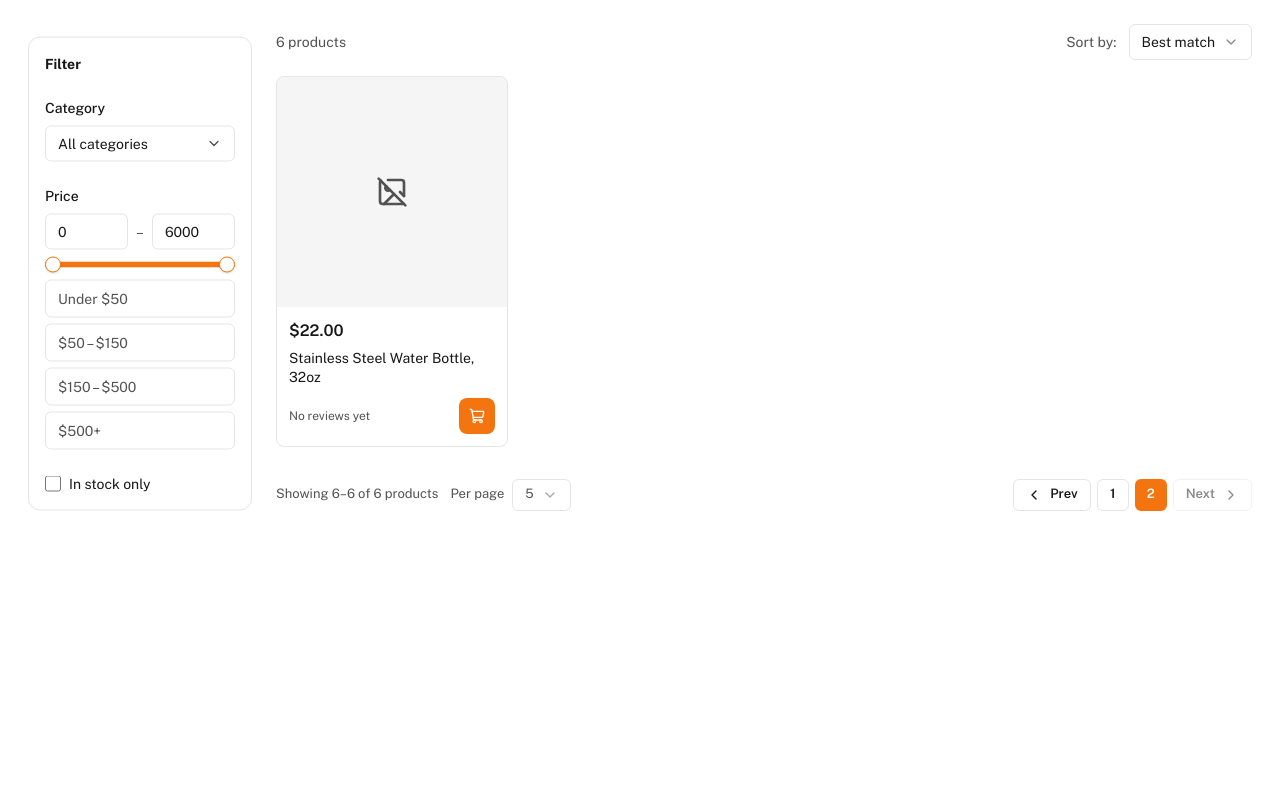
Test: SearchResults › resizes the request and goes back to the first page when Per page changes
The image size is (1280, 785).
Expected: the link "Stainless Steel Water Bottle, 32oz" is shown, [289,349,495,388]
Click the dropdown named "Rows per page".
click(541, 494)  # box [512,478,571,510]
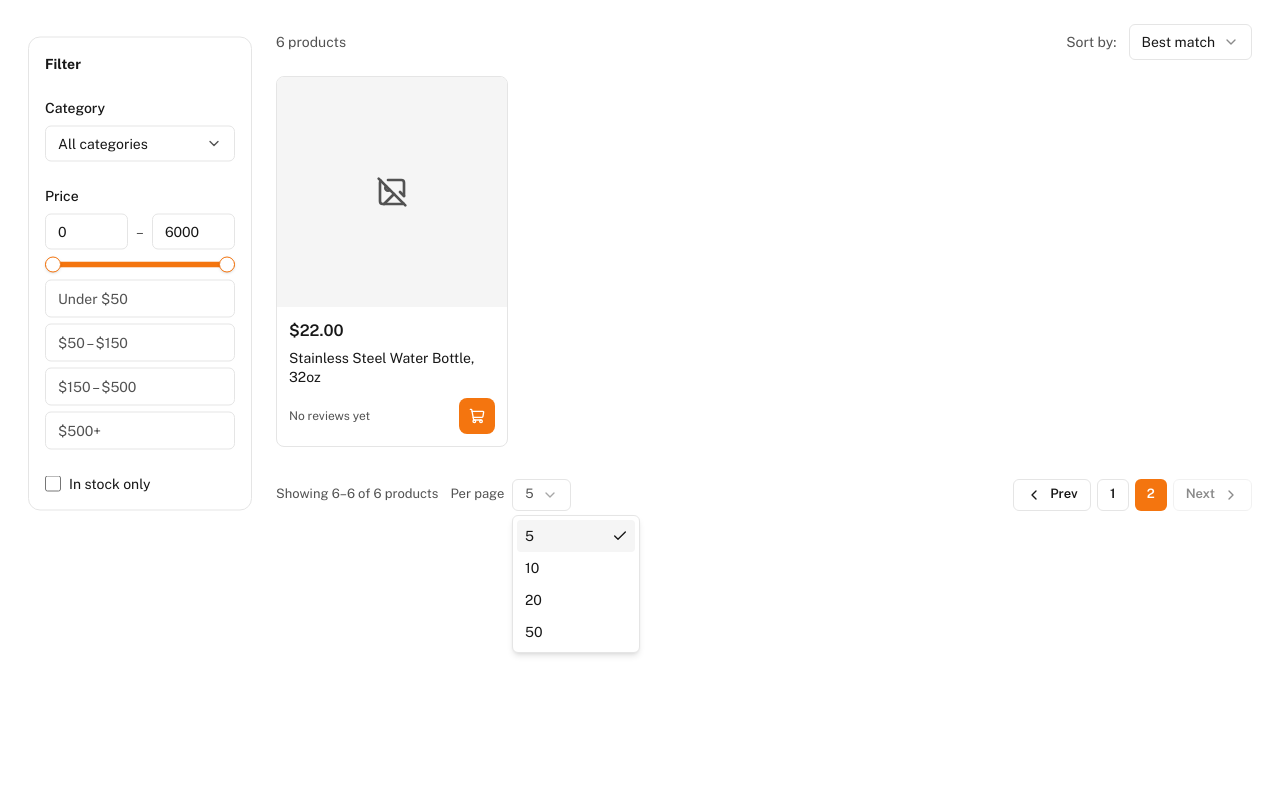
Click the option "20".
click(533, 600)  # box [525,592,542,608]
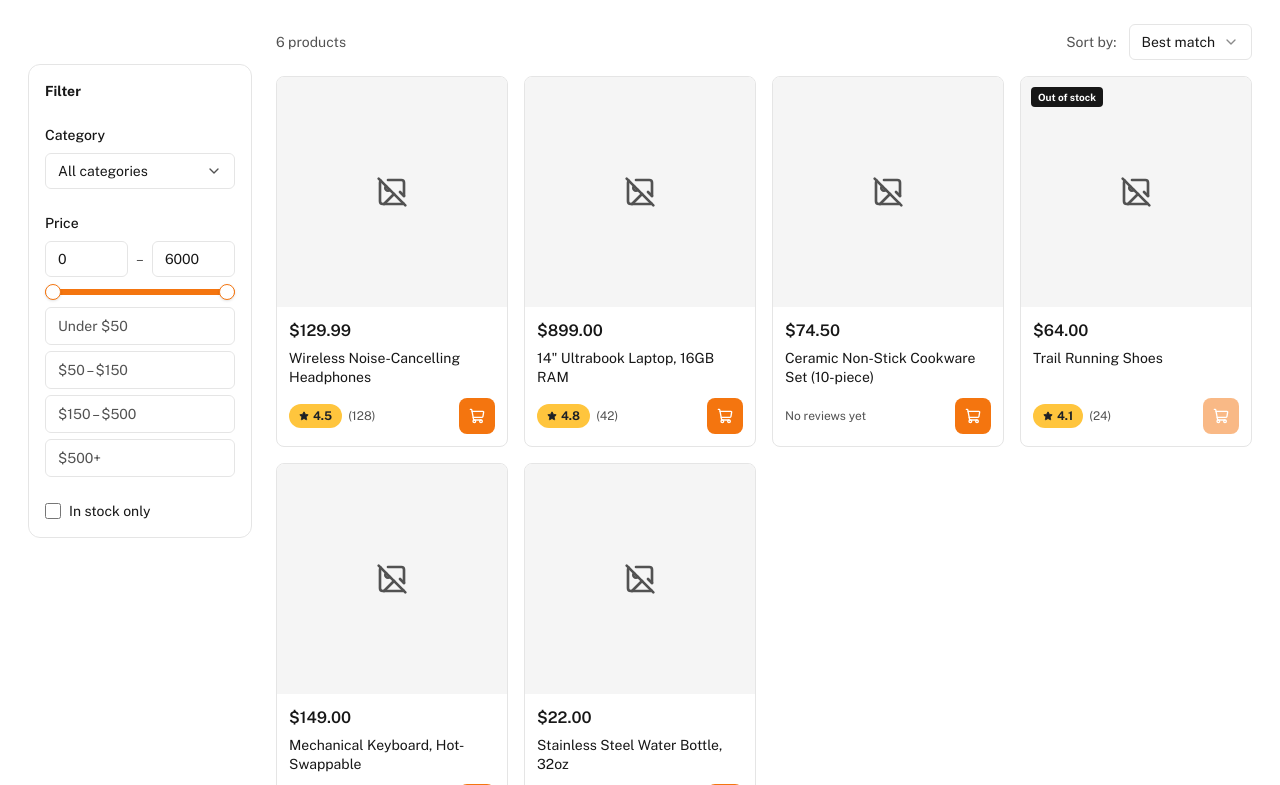
Expected: the link "Wireless Noise-Cancelling Headphones" is shown, [289,350,460,385]
